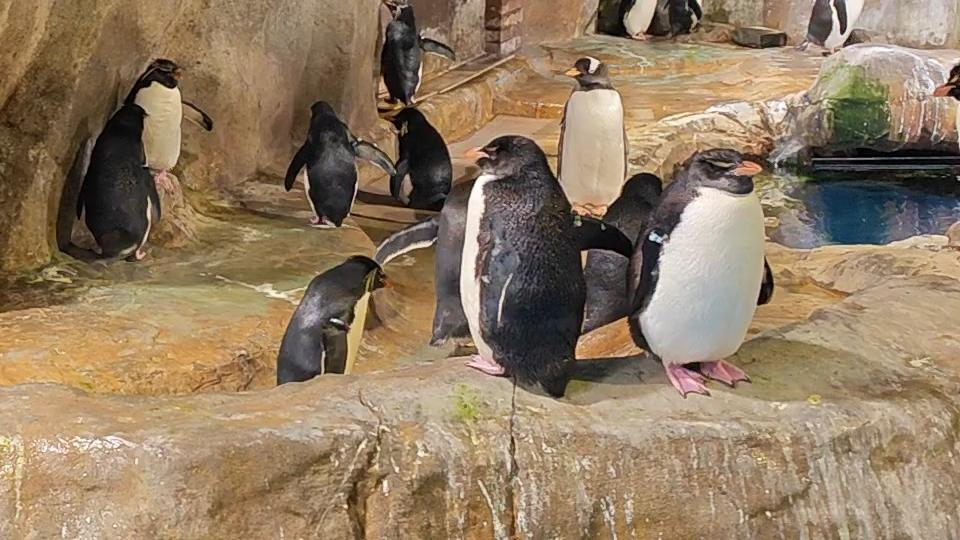Southern Rockhopper Penguin: (461, 130, 636, 405), (624, 139, 783, 406), (276, 251, 396, 395), (69, 99, 169, 267), (113, 53, 216, 178), (370, 0, 461, 107), (376, 103, 458, 219), (661, 0, 712, 41), (614, 0, 661, 42)
